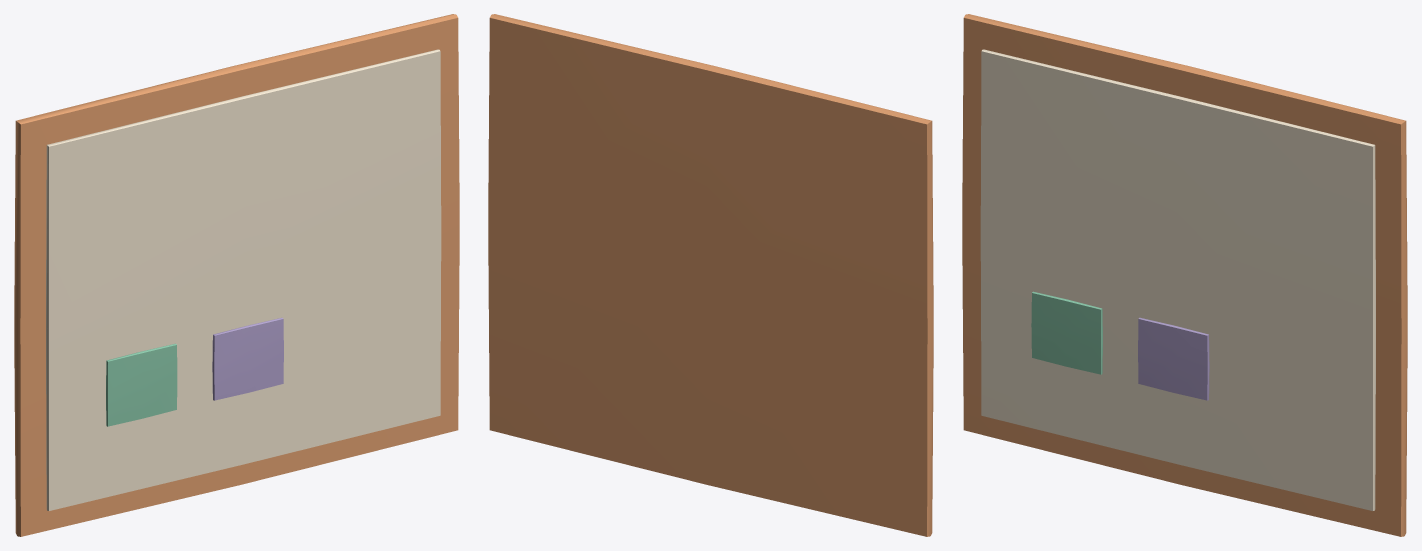
Rendered from calendar.glb.
3 renders of one model, left to right at view 1: azimuth 30°, elevation 25°; view 2: azimuth 150°, elevation 25°; view 3: azimuth 330°, elevation 25°, orthographic.
Parts seen in each view (by area): view 1: part (×4); view 2: part; view 3: part (×4).
Boxes of the visible parts, box(x1,y1,x2,y2) form: part (×4): box(14, 14, 459, 536); part: box(488, 14, 933, 536); part (×4): box(962, 14, 1407, 536).
Size of the model in its own units: 0.72 by 0.65 by 0.048.
Materials: 1 (1 with a texture image).
